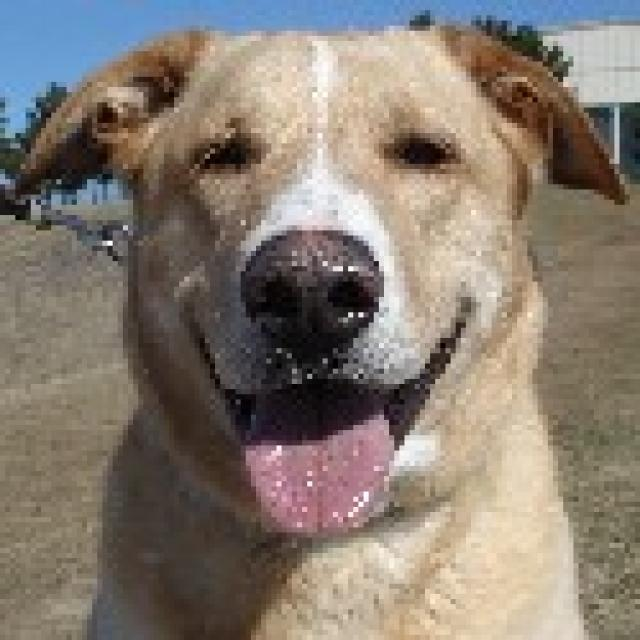Dogs: (10, 15, 630, 635)
